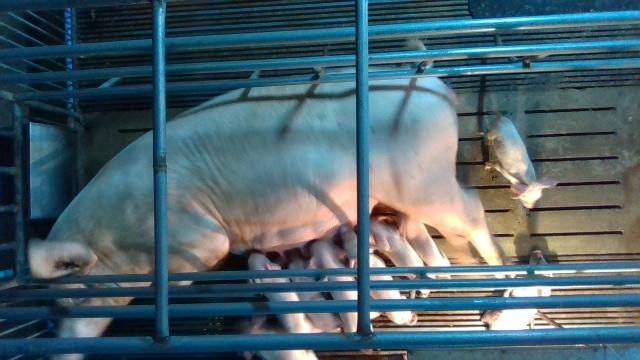piglet: (478, 110, 558, 210), (246, 251, 342, 333), (341, 225, 418, 327), (308, 239, 373, 331), (482, 250, 553, 331), (368, 218, 432, 298), (395, 212, 452, 280), (288, 255, 338, 330), (242, 315, 319, 360)
sow-sleep-lactate: (27, 67, 504, 360)
